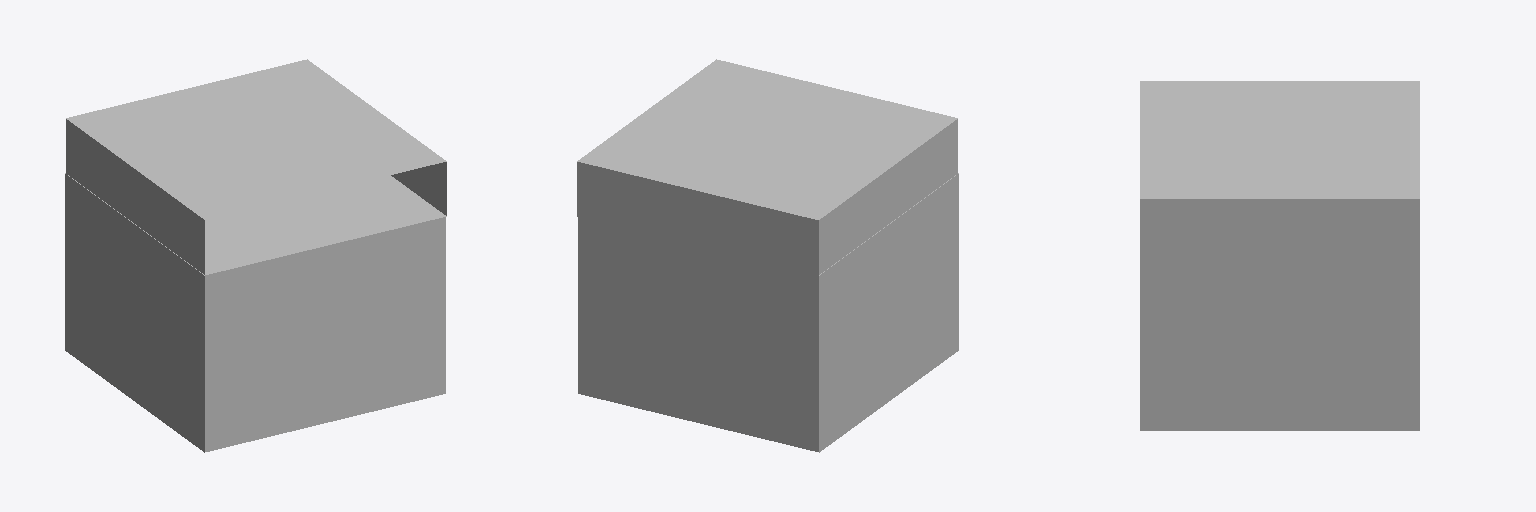
The model's file is water_three.7dfcfd72.obj.
The picture shows the model from 3 angles: view 1: azimuth 30°, elevation 25°; view 2: azimuth 150°, elevation 25°; view 3: azimuth 270°, elevation 25°; orthographic projection.
Visible parts, largest first — view 1: Water_three_Cube.012; view 2: Water_three_Cube.012; view 3: Water_three_Cube.012.
Part boxes in pixels (bbox=[...]): Water_three_Cube.012: bbox=[65, 59, 446, 452]; Water_three_Cube.012: bbox=[577, 59, 958, 452]; Water_three_Cube.012: bbox=[1140, 81, 1419, 430].
Bounding box in the file's own units: 2 × 1.83 × 2.